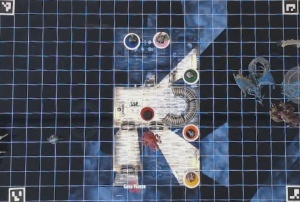blue: (122, 31, 141, 51)
green: (181, 67, 198, 84)
orange: (180, 120, 201, 142)
pink: (152, 28, 170, 48)
red: (138, 104, 156, 121)
yellow: (180, 167, 201, 191)
